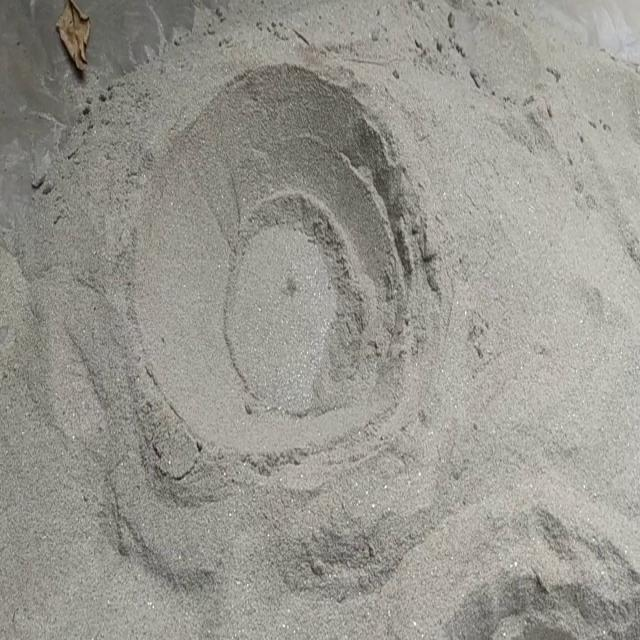C20: (135, 64, 439, 460)
C40: (542, 1, 639, 62)
